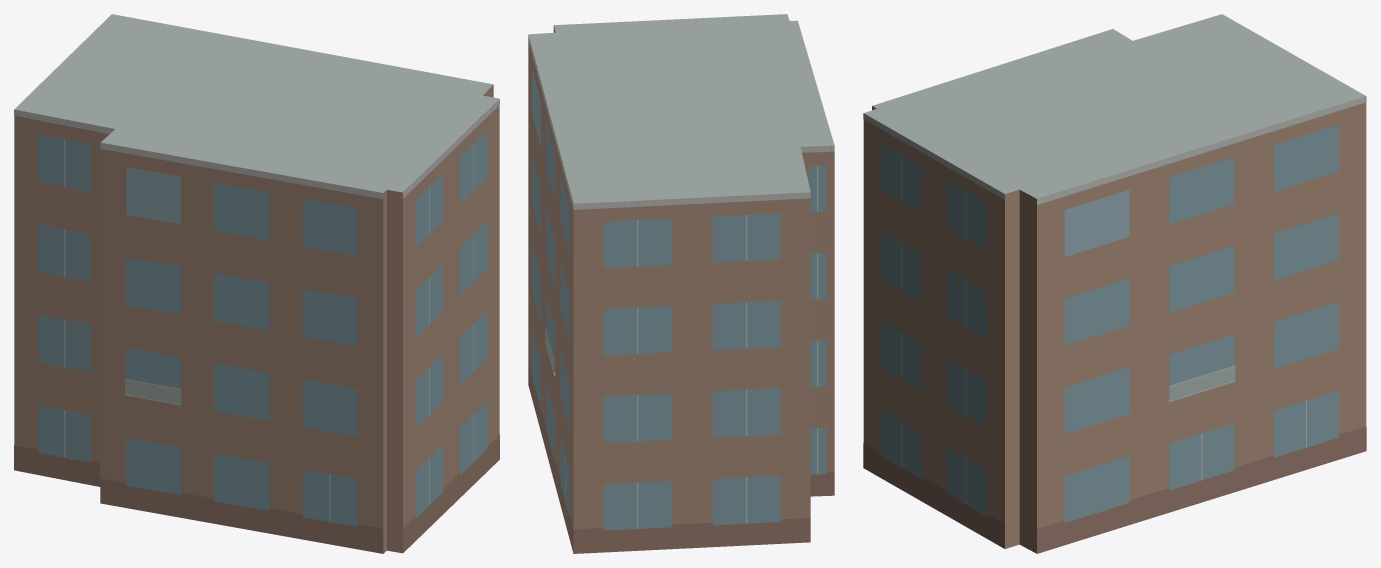
The model's file is survey-upis-32663524.glb.
3 views of the same model, side by side, from view 1: azimuth 30°, elevation 25°; view 2: azimuth 150°, elevation 25°; view 3: azimuth 270°, elevation 25° (orthographic). The views are drawn at different scales.
Visible parts, largest first — view 1: survey-upis-32663524.tmp; view 2: survey-upis-32663524.tmp; view 3: survey-upis-32663524.tmp.
Boxes of the visible parts, x1=… form: survey-upis-32663524.tmp: x1=14, y1=14, x2=499, y2=553; survey-upis-32663524.tmp: x1=528, y1=14, x2=834, y2=553; survey-upis-32663524.tmp: x1=863, y1=14, x2=1366, y2=553.
Bounding box in the file's own units: 15.76 × 14.1 × 18.12.
